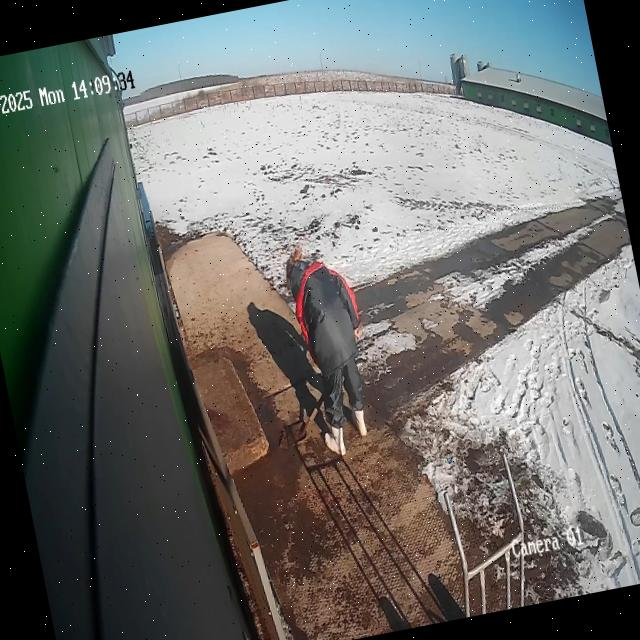Red uniform: (284, 252, 381, 434)
